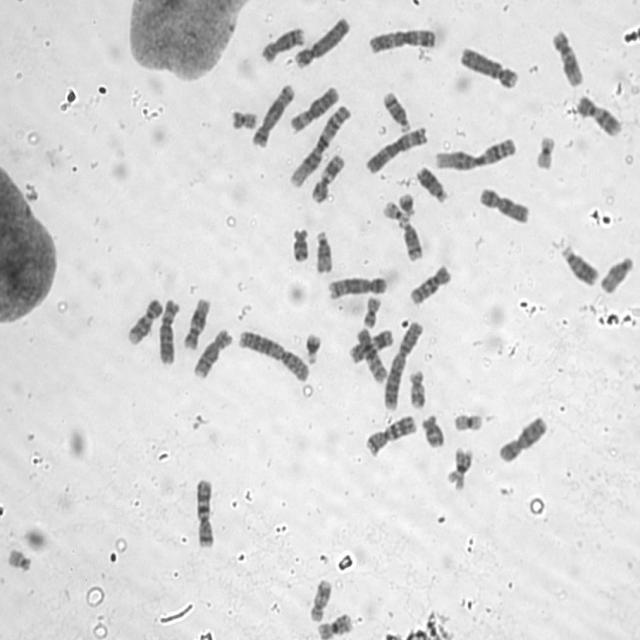A1: (288, 100, 352, 188), (432, 132, 519, 172)
A2: (234, 326, 310, 382), (380, 318, 424, 412)
A3: (361, 122, 430, 174), (366, 24, 440, 56)
B4: (290, 13, 350, 69), (456, 43, 520, 90)
B5: (250, 80, 296, 149), (325, 272, 389, 300)
C10: (406, 260, 453, 308), (354, 324, 390, 384)
C11: (309, 150, 347, 205), (347, 326, 395, 364)
C12: (548, 27, 584, 87), (181, 293, 212, 351)
C6: (288, 81, 342, 134), (155, 294, 182, 366)
C7: (363, 411, 419, 457), (192, 473, 217, 550)
C8: (192, 325, 233, 380), (257, 23, 307, 64)
C9: (573, 90, 624, 138), (125, 294, 163, 344)
D13: (558, 240, 600, 288), (414, 163, 449, 204)
D14: (381, 87, 412, 134), (398, 216, 424, 263)
D15: (596, 252, 636, 296), (312, 226, 334, 275)
E16: (446, 445, 474, 489), (314, 609, 354, 639)
E17: (305, 573, 334, 624), (406, 367, 427, 410)
E18: (418, 412, 446, 449), (288, 224, 312, 264)
F19: (532, 132, 556, 171), (451, 409, 484, 433)
F20: (360, 294, 382, 329), (228, 107, 258, 131)
G21: (302, 330, 323, 366), (396, 189, 417, 217)
G22: (4, 542, 33, 572), (380, 197, 409, 224)
X: (495, 411, 550, 464), (477, 182, 532, 226)
